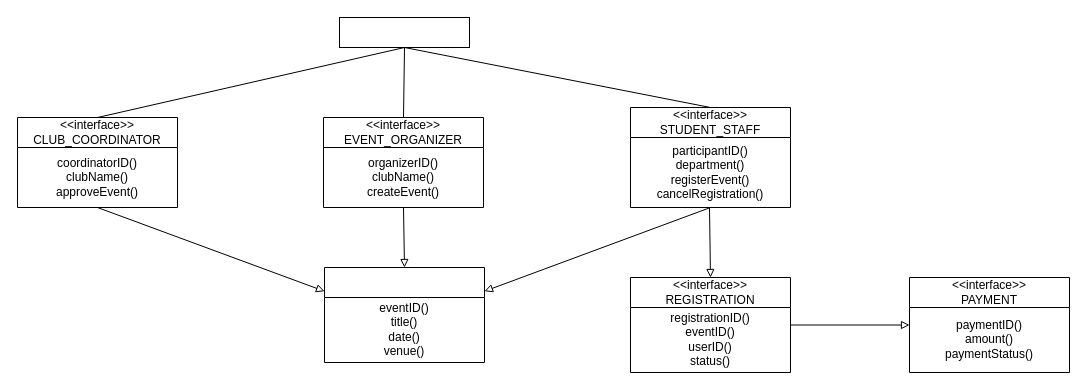
Image size: 1087x390. Some labels were removed from this diagram. The shapes that lost their labels are listed below. From the top down, each one's box as (x1, y1, x2, y2) in pixels, then its label:
(338, 16, 470, 48): USER
(324, 266, 484, 362): <<interface>> EVENT
